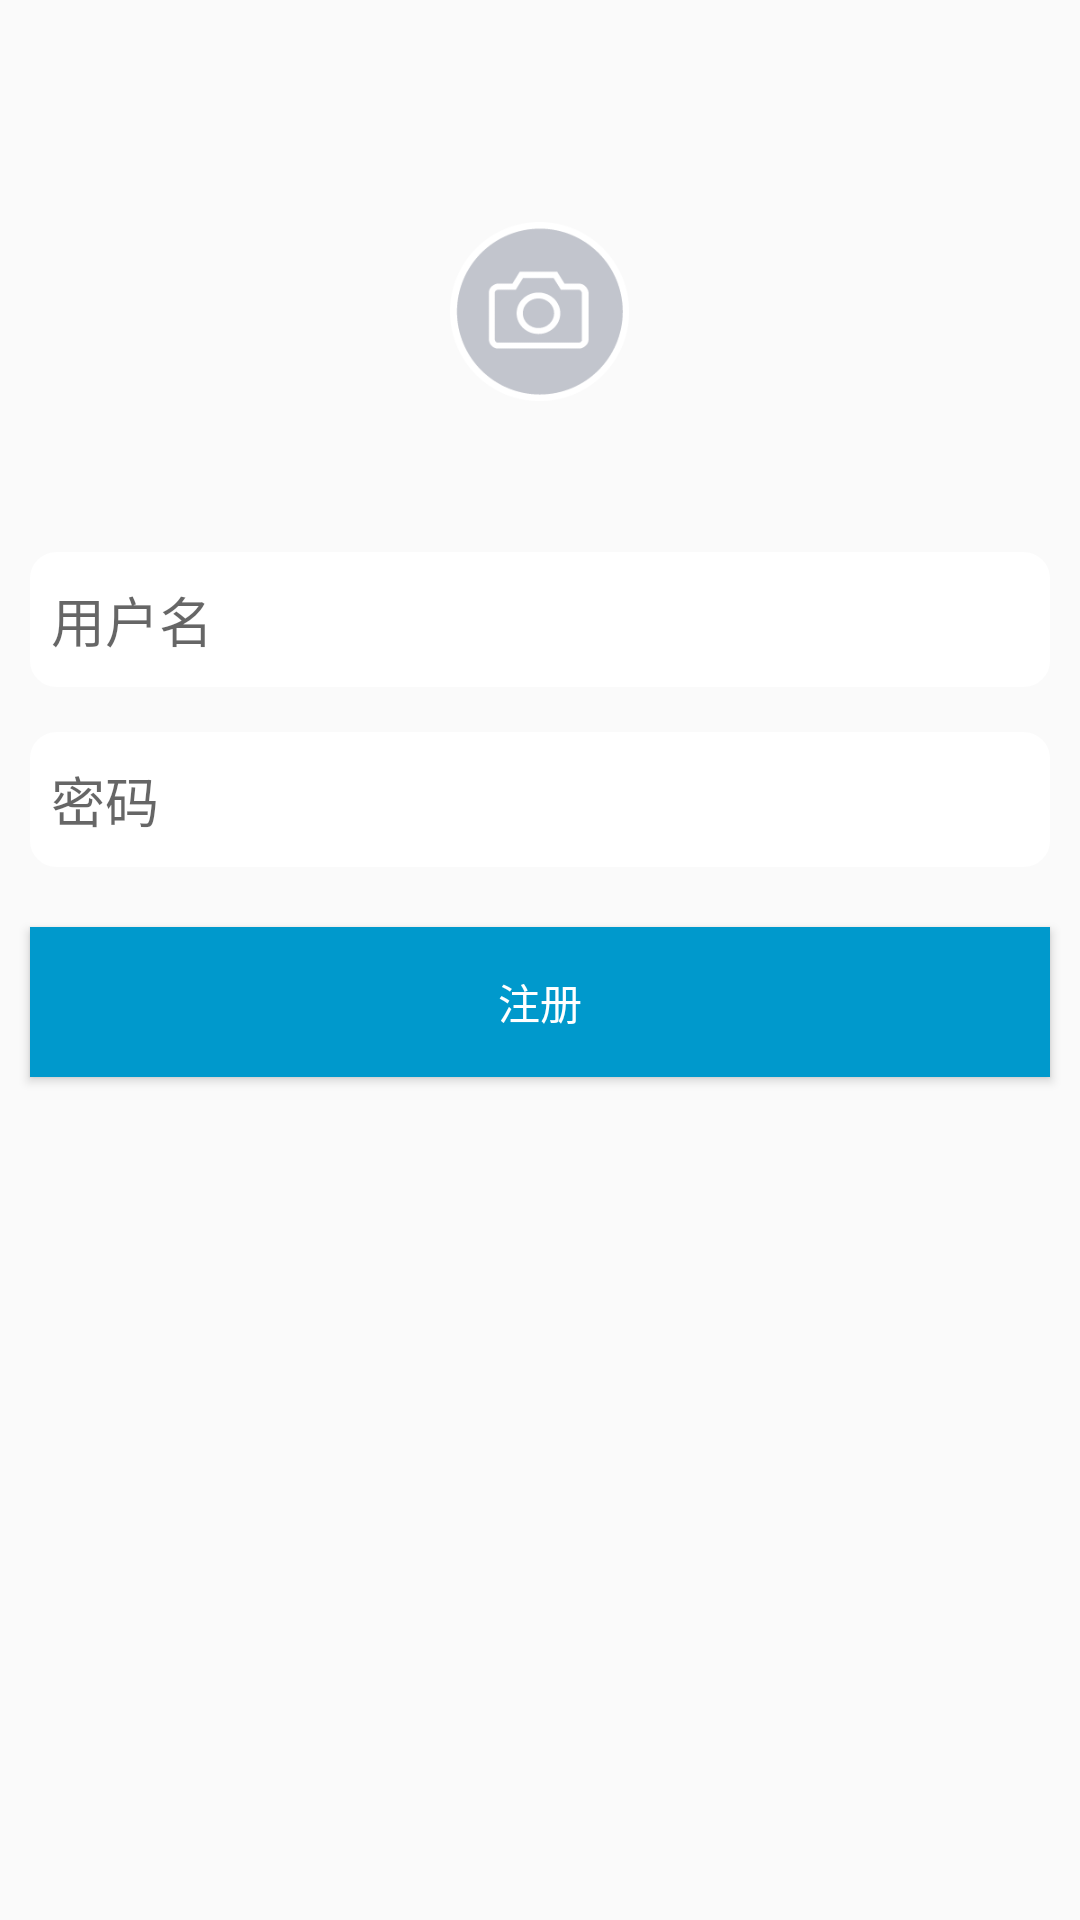

Named icons in this screenshot (1080 x 1920) and their centers, (x=x, y=y):
choosehead: (x=540, y=312)
